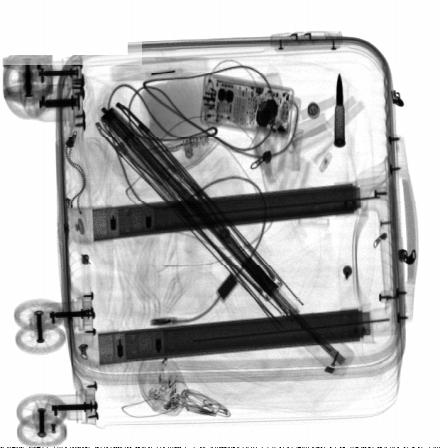Bullet: (333, 71, 345, 147)
